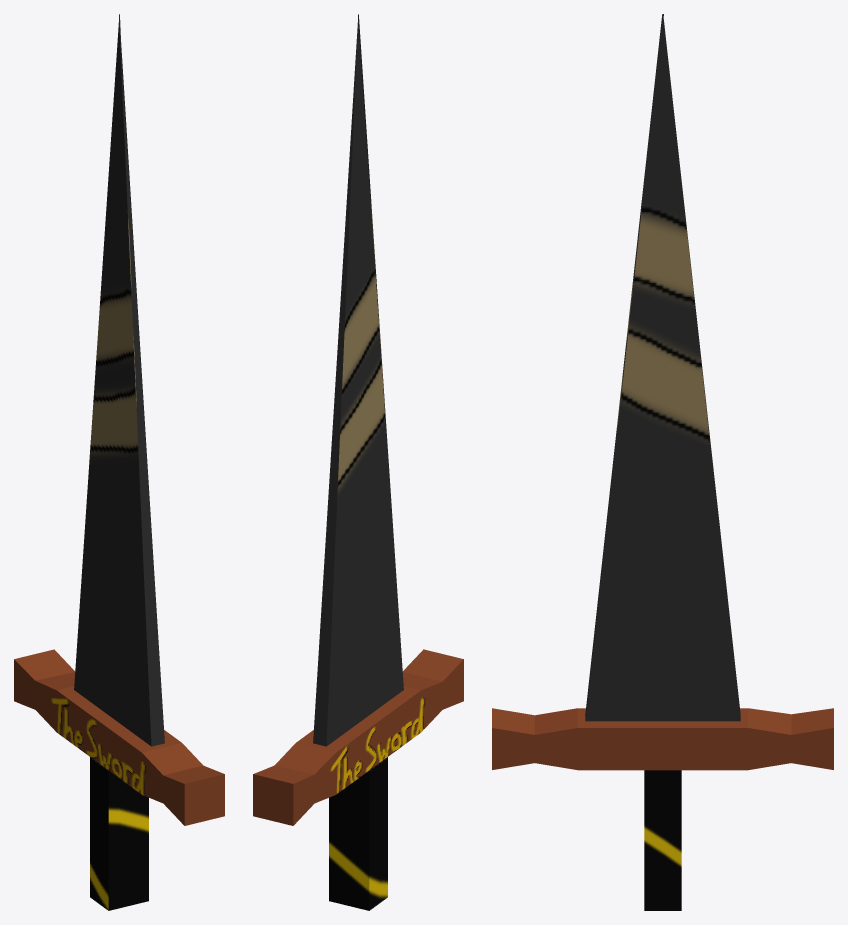
Rendered from shamshir3.fbx.
3 views of the same model, side by side, from view 1: azimuth 30°, elevation 25°; view 2: azimuth 150°, elevation 25°; view 3: azimuth 270°, elevation 25° (orthographic).
Visible parts, largest first — view 1: Cube, Cube.001, Cube.002; view 2: Cube, Cube.001, Cube.002; view 3: Cube, Cube.001, Cube.002.
Boxes of the visible parts, x1=… form: Cube: x1=74, y1=14, x2=164, y2=746; Cube.001: x1=14, y1=649, x2=224, y2=825; Cube.002: x1=90, y1=757, x2=148, y2=910; Cube: x1=313, y1=14, x2=403, y2=746; Cube.001: x1=253, y1=649, x2=463, y2=825; Cube.002: x1=329, y1=757, x2=387, y2=910; Cube: x1=585, y1=14, x2=740, y2=721; Cube.001: x1=492, y1=708, x2=833, y2=770; Cube.002: x1=644, y1=770, x2=681, y2=910.
Size of the model in its own units: 60 by 1260 by 440.
